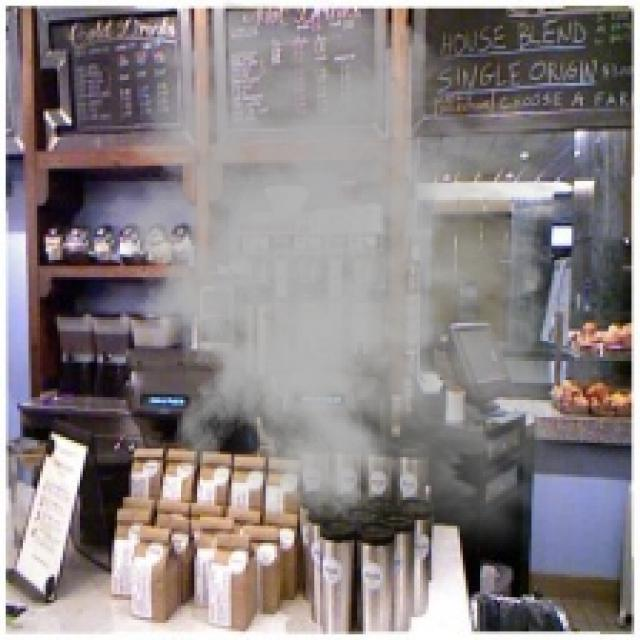Smoke: (86, 0, 628, 569)
